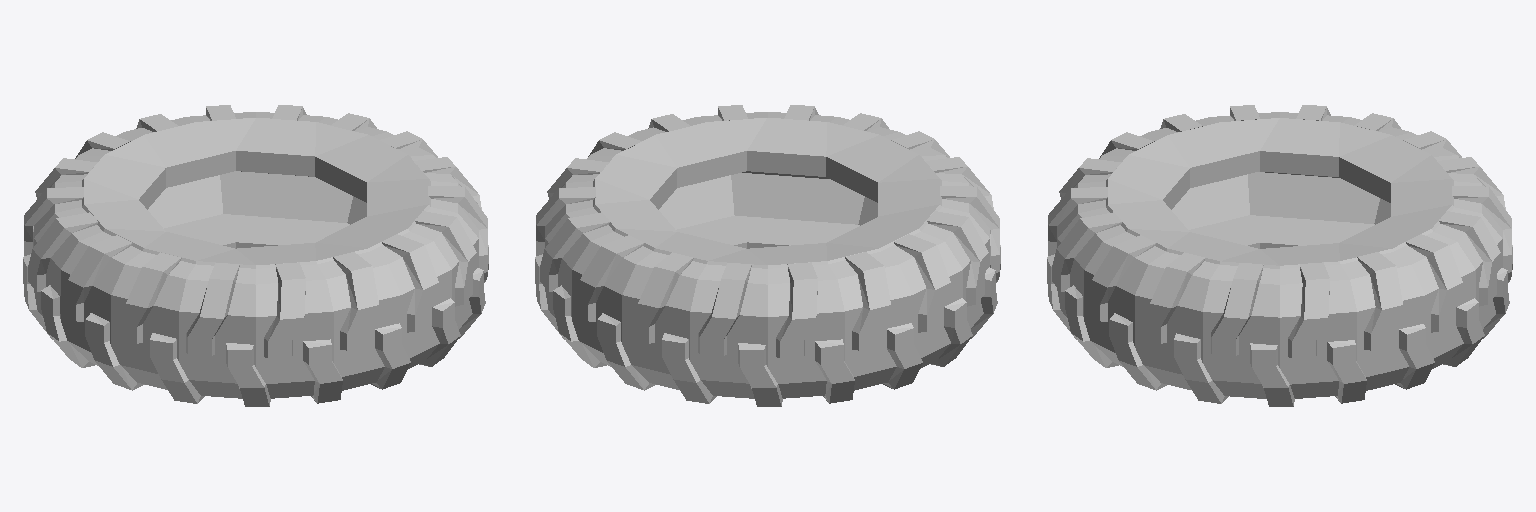
The model's file is SM_Prop_Tyre_01.obj.
3 views of the same model, side by side, from view 1: azimuth 30°, elevation 25°; view 2: azimuth 150°, elevation 25°; view 3: azimuth 270°, elevation 25° (orthographic).
Size of the model in its own units: 172 by 52.5 by 172.